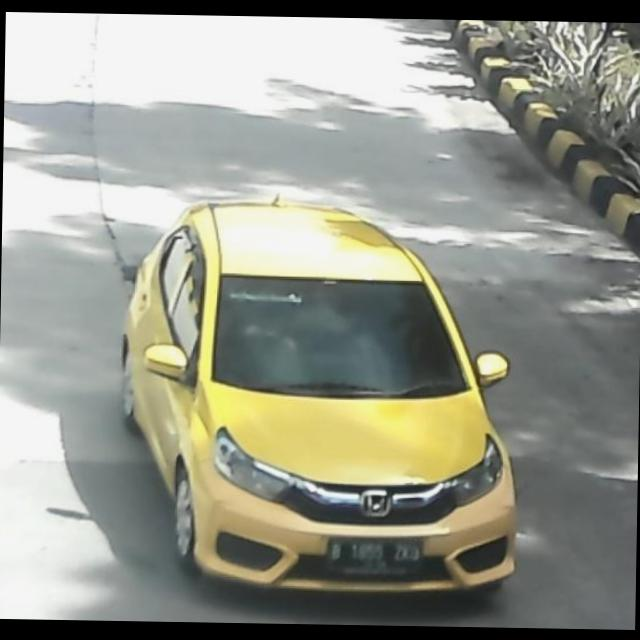plate: (324, 537, 426, 575)
